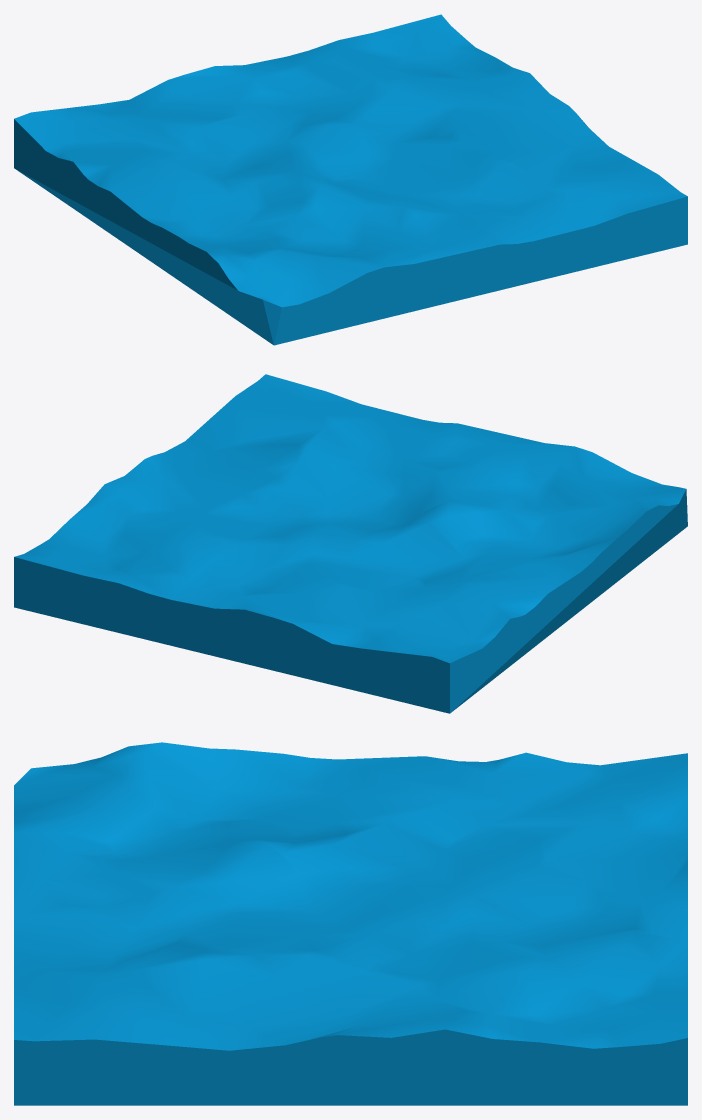
File: Watermodelforfishpond_v1.fbx
3 views of the same model, one above another, from view 1: azimuth 30°, elevation 25°; view 2: azimuth 150°, elevation 25°; view 3: azimuth 270°, elevation 25° (orthographic). The views are drawn at different scales.
Visible parts, largest first — view 1: Water; view 2: Water; view 3: Water.
Part boxes in pixels (<box>): Water: <box>14,14,687,345</box>; Water: <box>14,374,687,713</box>; Water: <box>14,742,687,1105</box>.
Bounding box in the file's own units: 525 × 68.63 × 525.
